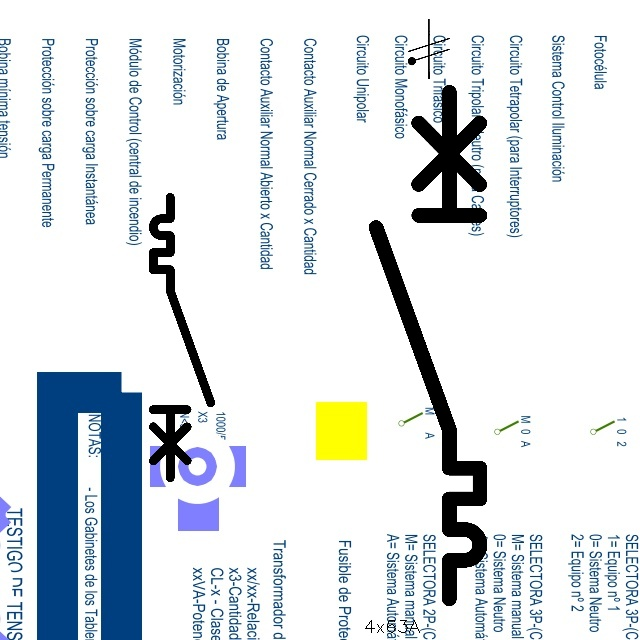interruptor_termomagnetico: (363, 79, 493, 612), (146, 190, 218, 485)
